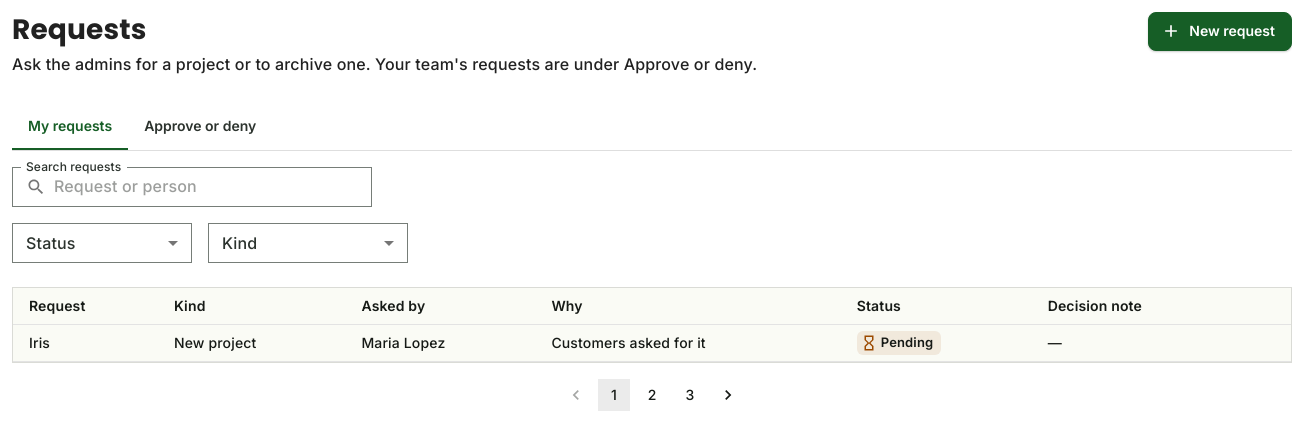
Test: RequestsPage › search › gives each tab its own search and its own page
The width and height of the screenshot is (1304, 437).
Type "iris" into the field labelled "Search requests" at (213, 187), box [54,167,372,207]
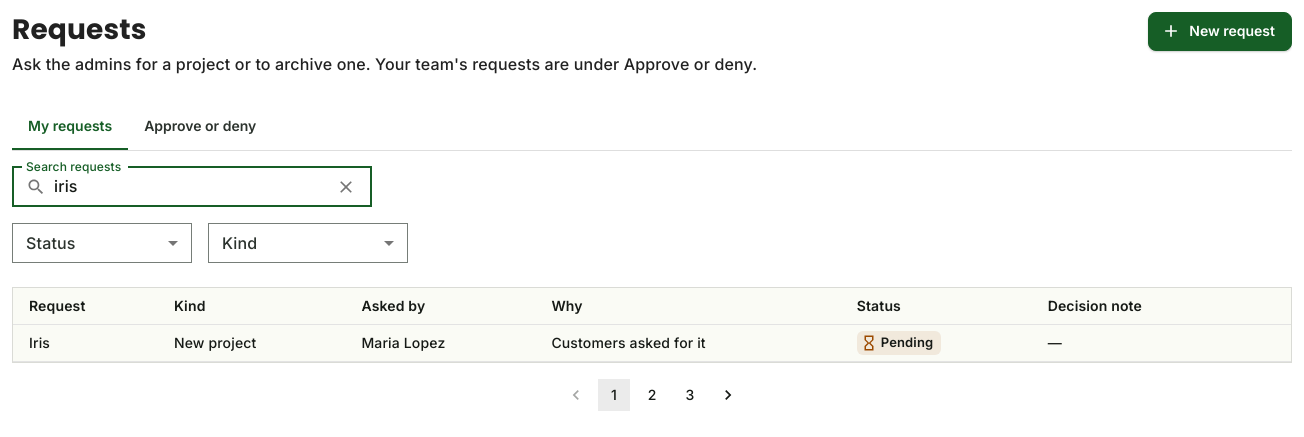
Click the button named "go to page 2" at (652, 395), box [636,379,668,411]
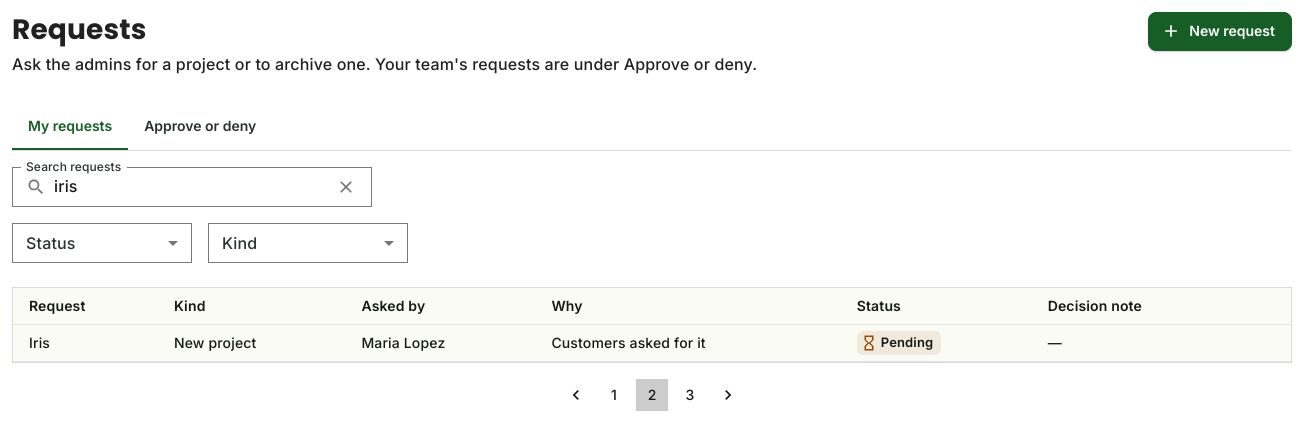
Click the tab "Approve or deny" at (200, 126), box [128,102,272,150]
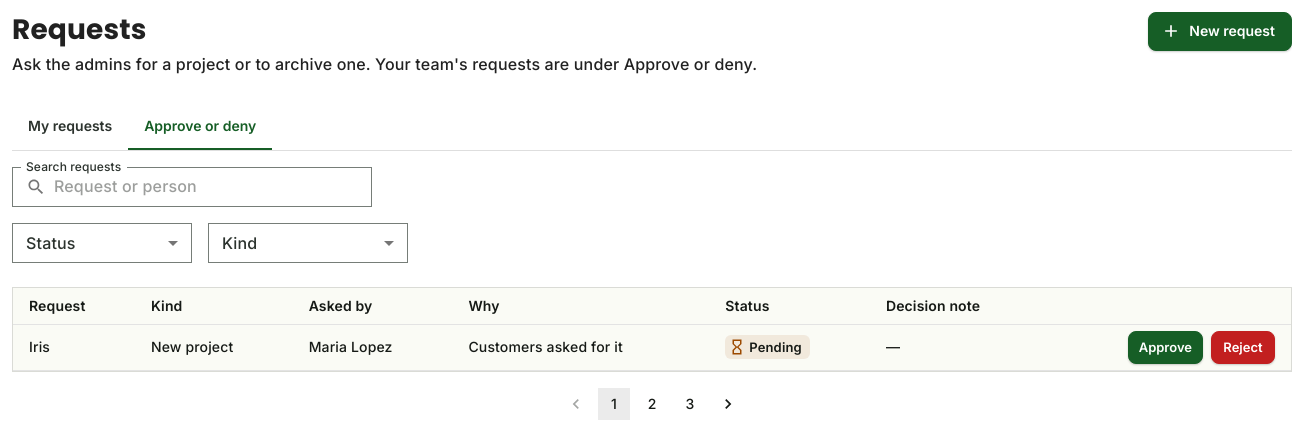
Now the field labelled "Search requests" is empty
Type "ben" into the field labelled "Search requests" at (213, 187), box [54,167,372,207]
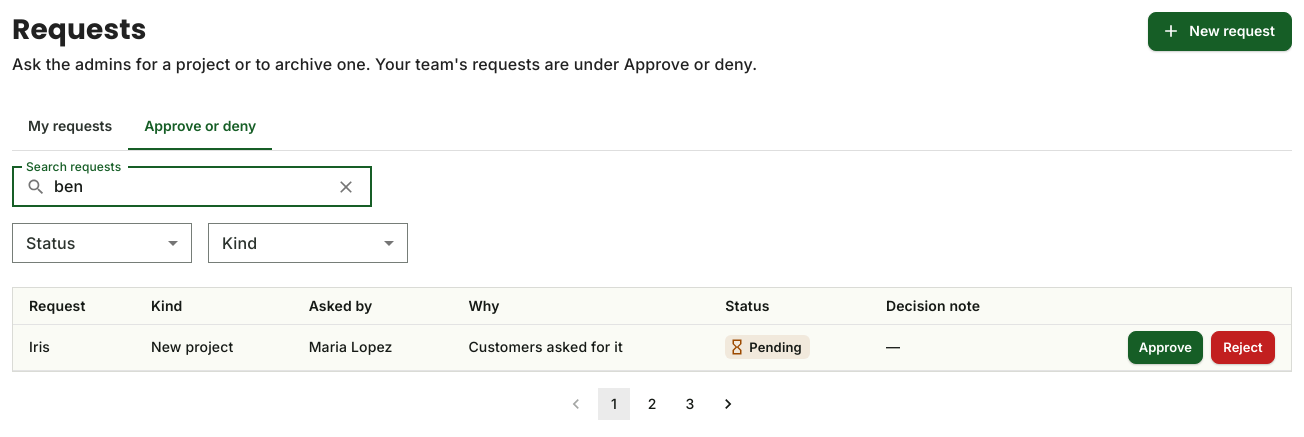
Click the tab "My requests" at (70, 126), box [12,102,128,150]
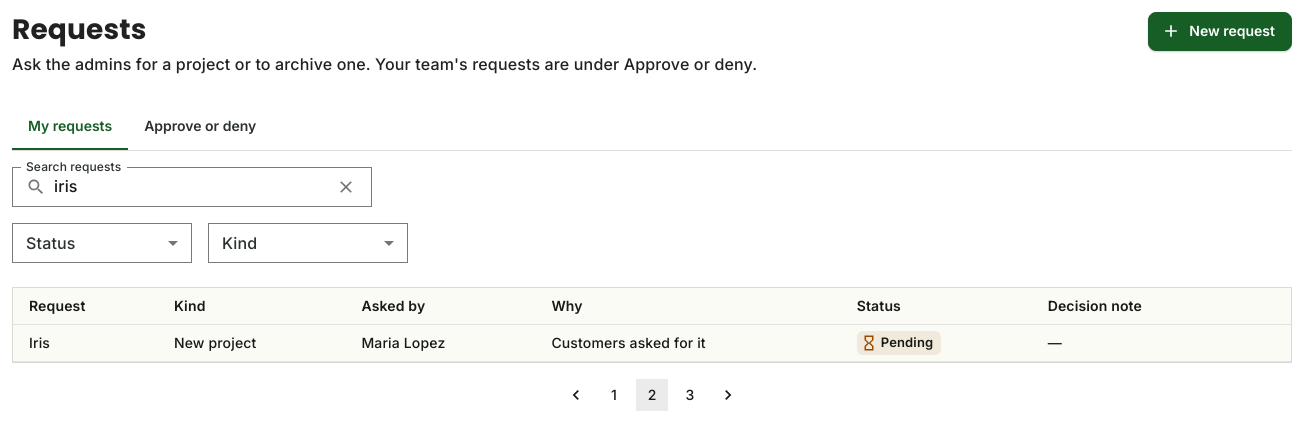
Now the field labelled "Search requests" holds "iris", box [54,167,323,207]
